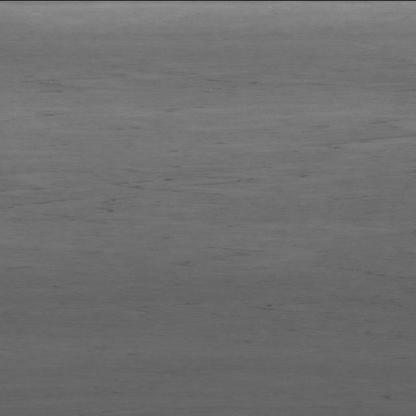silk_spot: (23, 127, 292, 268)
